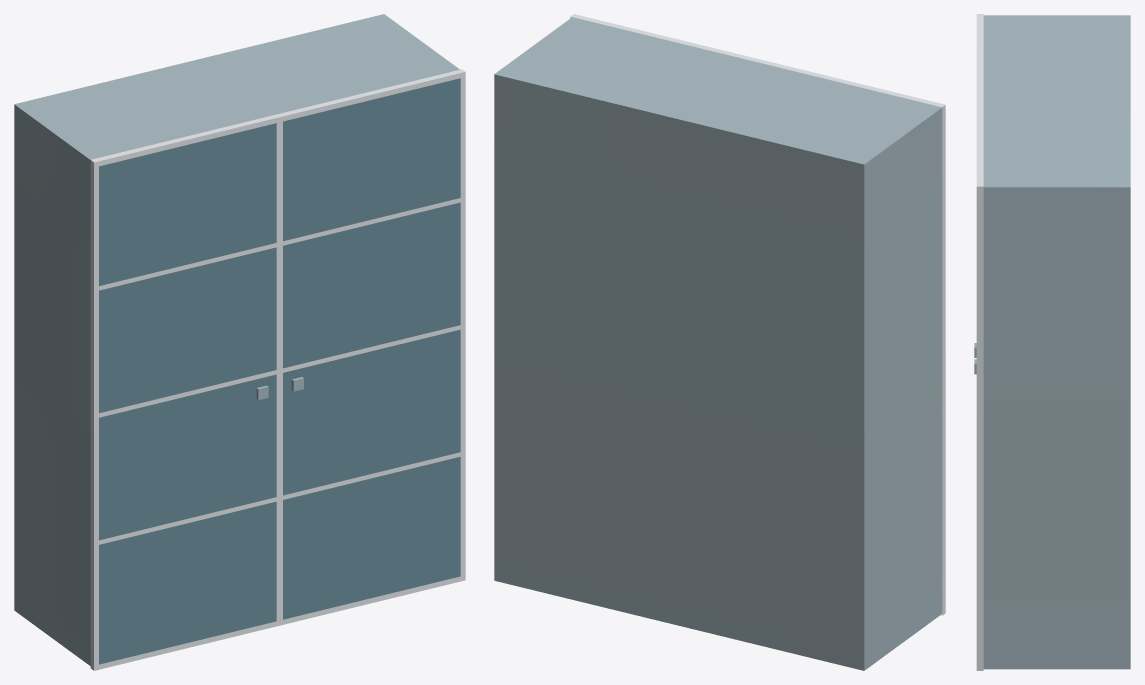
The model's file is closet_011.glb.
3 renders of one model, left to right at view 1: azimuth 30°, elevation 25°; view 2: azimuth 150°, elevation 25°; view 3: azimuth 270°, elevation 25°, orthographic. The views are drawn at different scales.
Visible parts, largest first — view 1: closet_011; view 2: closet_011; view 3: closet_011.
Part boxes in pixels (x1,y1,x2,y2): closet_011: [14, 14, 465, 670]; closet_011: [494, 14, 945, 670]; closet_011: [974, 14, 1130, 670].
Bounding box in the file's own units: 1.5 × 1.96 × 0.5715.
Materials: 1 (1 with a texture image).
